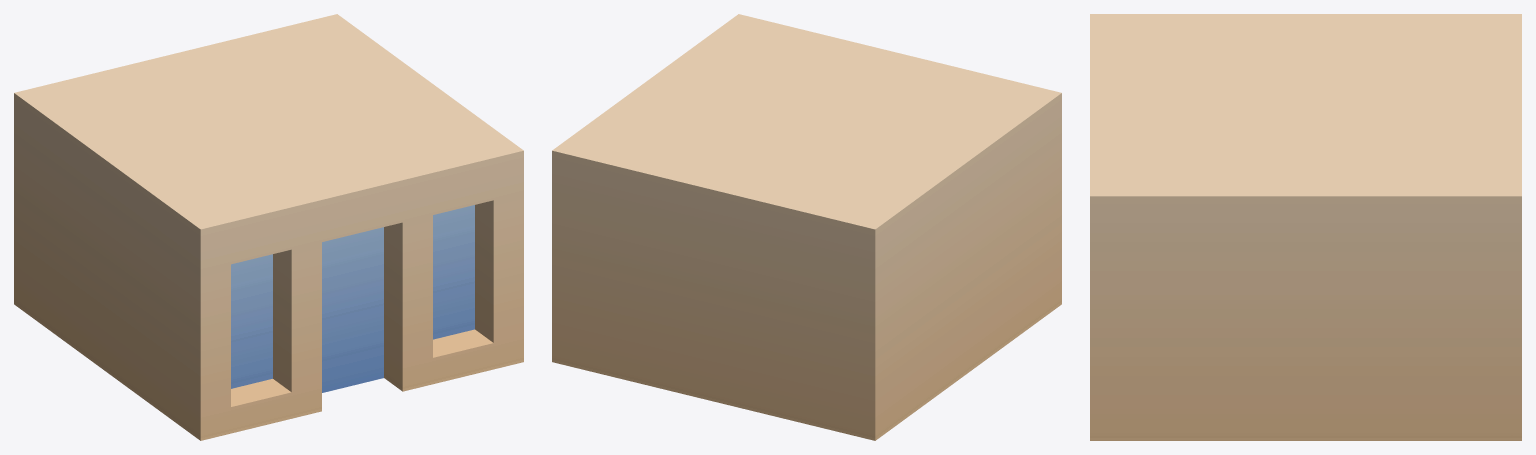
File: building-window-door-window.glb
The picture shows the model from 3 angles, left to right: view 1: azimuth 30°, elevation 25°; view 2: azimuth 150°, elevation 25°; view 3: azimuth 270°, elevation 25°; orthographic projection. The views are drawn at different scales.
Parts seen in each view (by area): view 1: building-window-door-window; view 2: building-window-door-window; view 3: building-window-door-window.
Part boxes in pixels (bbox=[...]): building-window-door-window: bbox=[14, 14, 523, 440]; building-window-door-window: bbox=[552, 14, 1061, 440]; building-window-door-window: bbox=[1090, 14, 1521, 440].
Bounding box in the file's own units: 1 × 0.625 × 1.
1 material, 1 textured.
